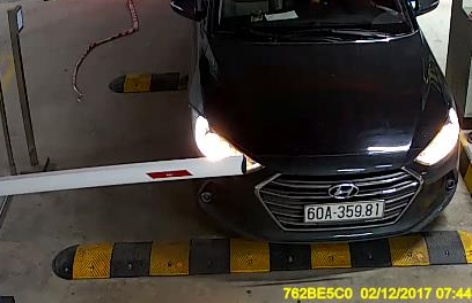plate: (300, 199, 388, 224)
